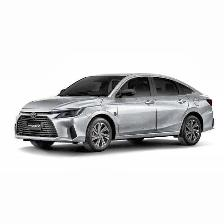NON-EV: (14, 70, 215, 152)
